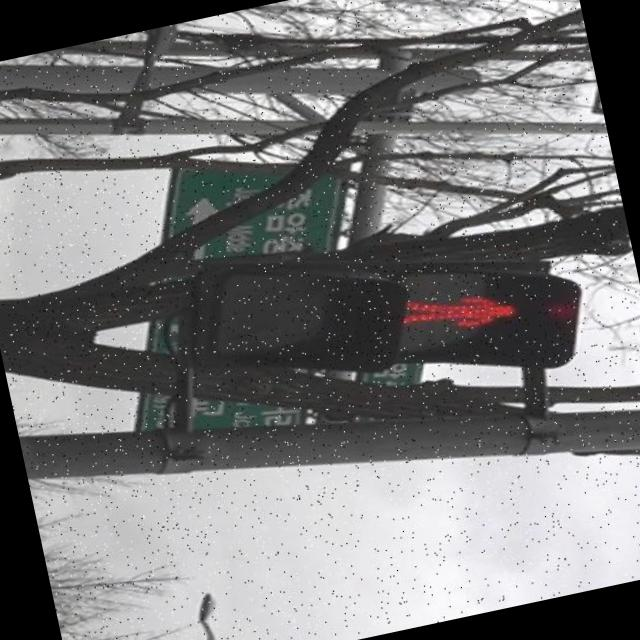red_light: (394, 262, 538, 369)
